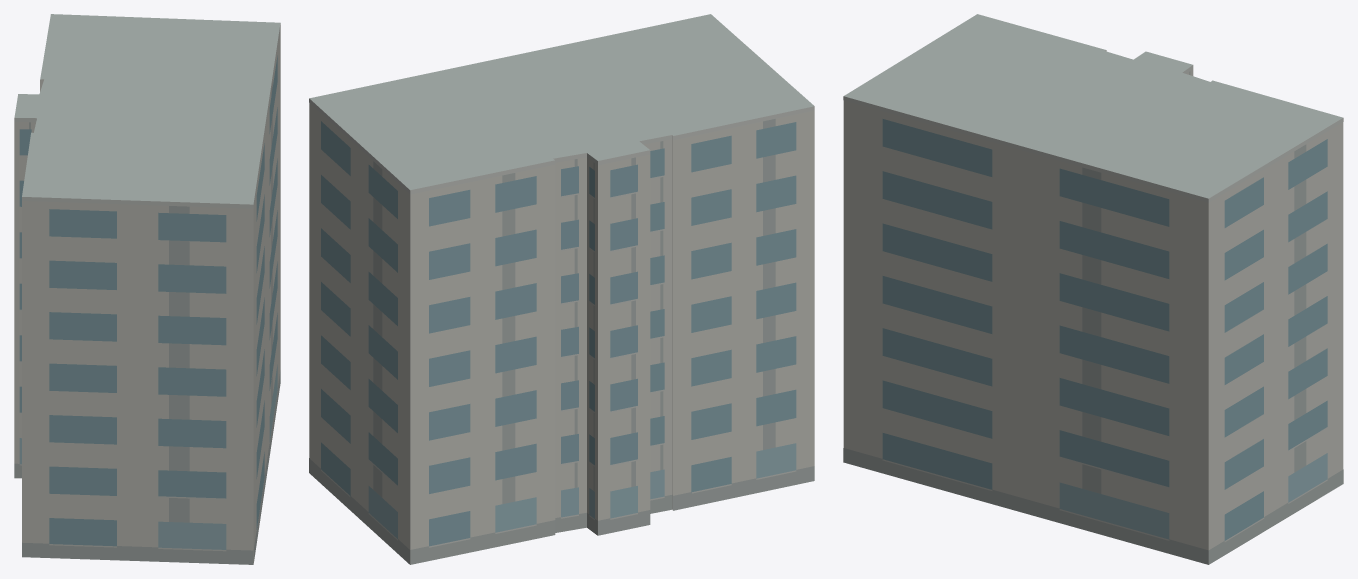
The model's file is survey-upis-32714490.glb.
3 views of the same model, side by side, from view 1: azimuth 30°, elevation 25°; view 2: azimuth 150°, elevation 25°; view 3: azimuth 270°, elevation 25° (orthographic). The views are drawn at different scales.
Parts seen in each view (by area): view 1: survey-upis-32714490.tmp; view 2: survey-upis-32714490.tmp; view 3: survey-upis-32714490.tmp.
Boxes of the visible parts, x1,y1,x2,y2 form: survey-upis-32714490.tmp: (14, 14, 280, 564); survey-upis-32714490.tmp: (309, 14, 814, 564); survey-upis-32714490.tmp: (843, 14, 1343, 564).
Bounding box in the file's own units: 23.04 × 21.3 × 26.36.
